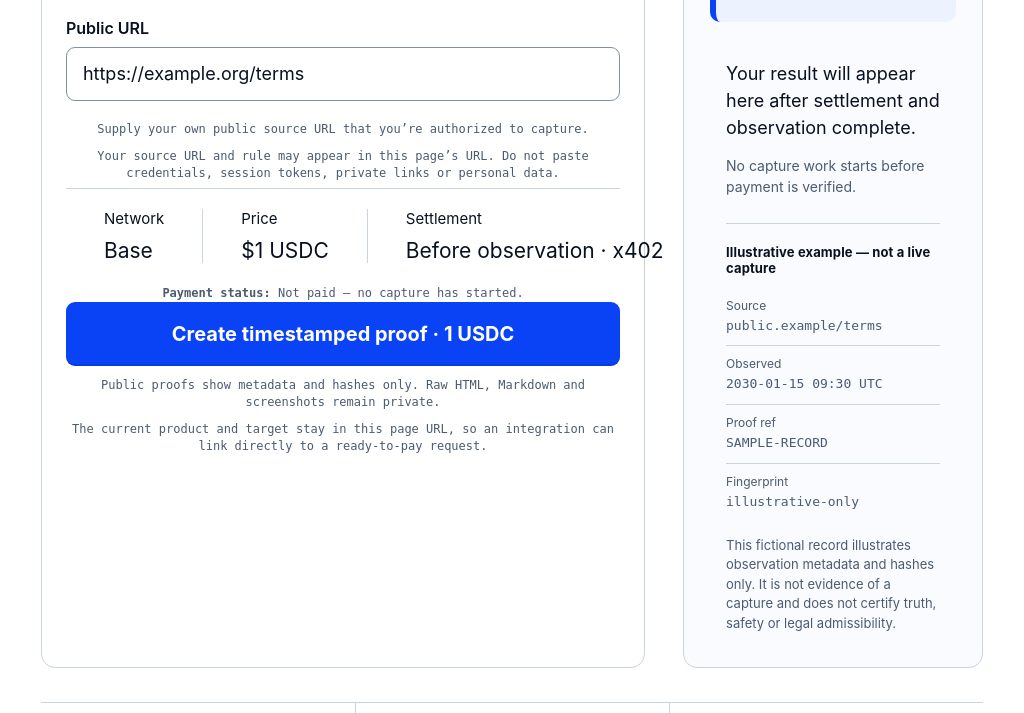
Scenario: Base app incomplete paid requests › fails closed before wallet access when storage reads work but writes are unavailable
(page scrolled)
Click the button "Create timestamped proof · 1 USDC": {"x": 343, "y": 334} top-left (66, 302), bottom-right (620, 366)
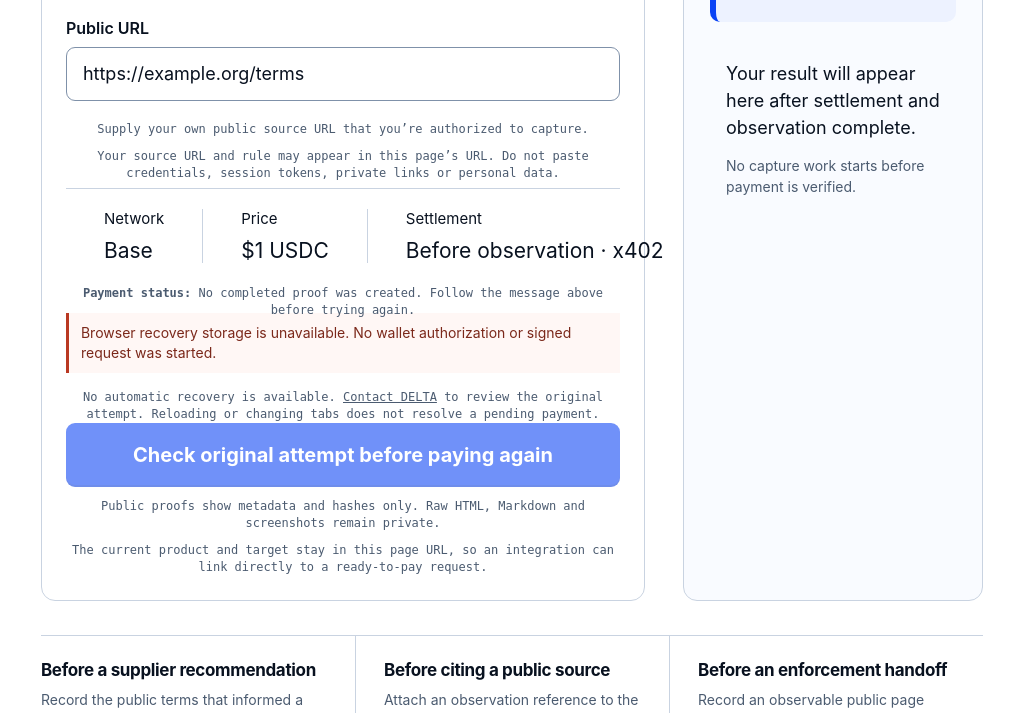
Now the element with class "result-status" no longer shows "READY"
Now the text "No wallet authorization or signed request was started" is shown, box top-left (81, 324), bottom-right (571, 361)
Now the button "Check original attempt before paying again" is disabled, box top-left (66, 423), bottom-right (620, 487)
